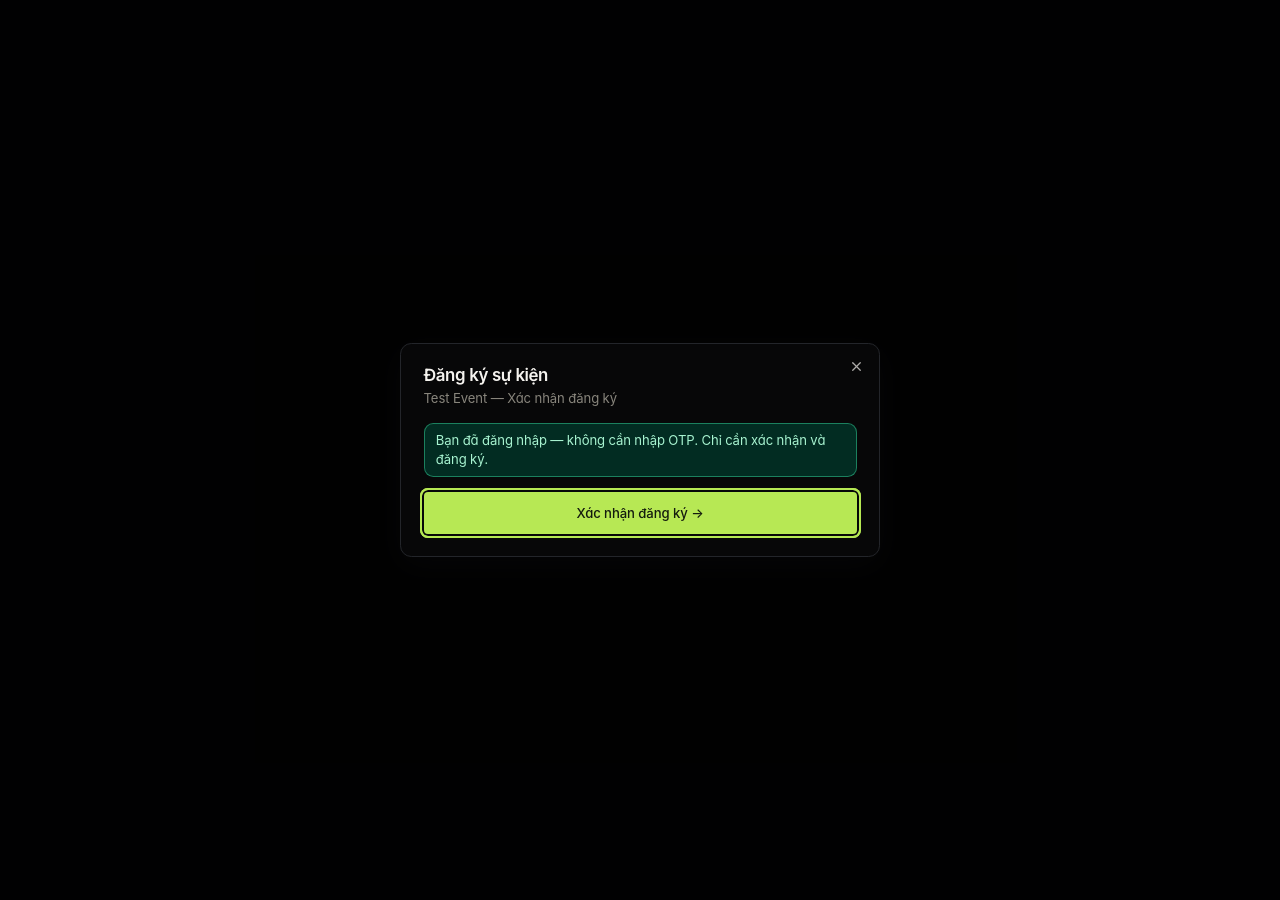
Test: rendering › success step: Zalo group button + recovery skip hides the opt-in card
Click the button "Xác nhận đăng ký →": click(640, 513) [424, 492, 856, 534]
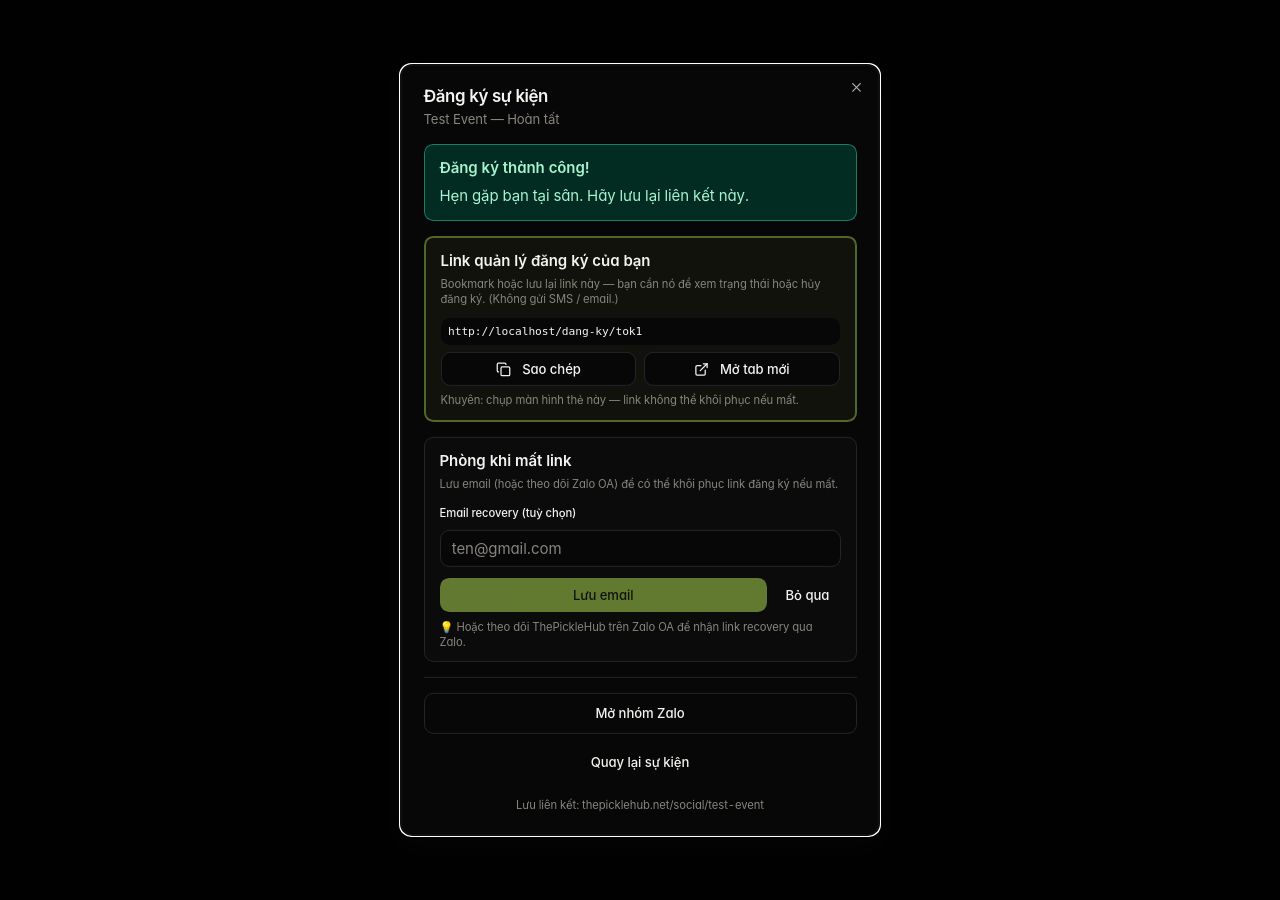
Check: the text "Đăng ký thành công!" is shown, box [440, 158, 590, 177]
Check: the text "http://localhost/dang-ky/tok1" is shown, box [440, 318, 840, 345]
Click the button "Bỏ qua": click(807, 595) [774, 578, 840, 612]
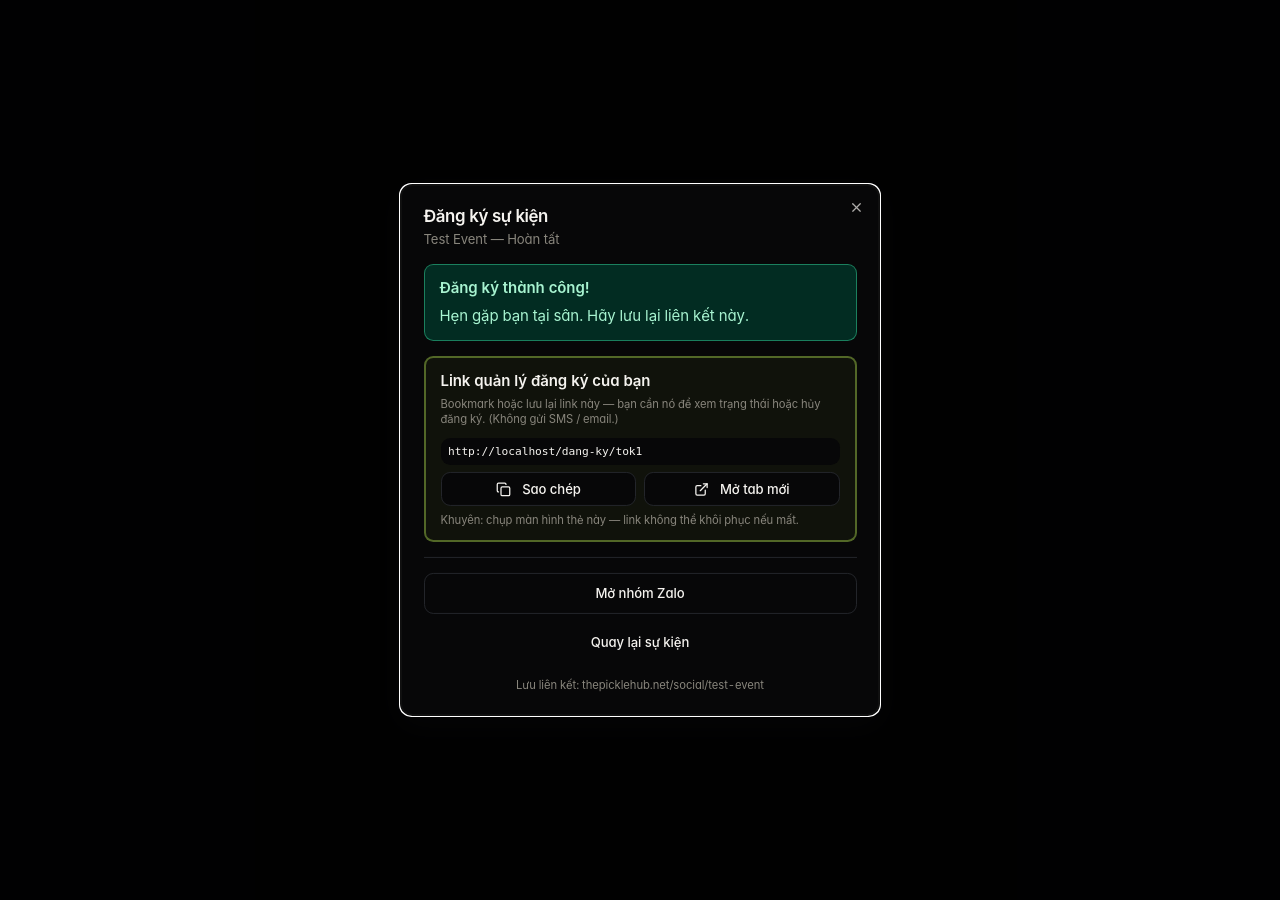
Check: the text "Email recovery (tuỳ chọn)" is gone
